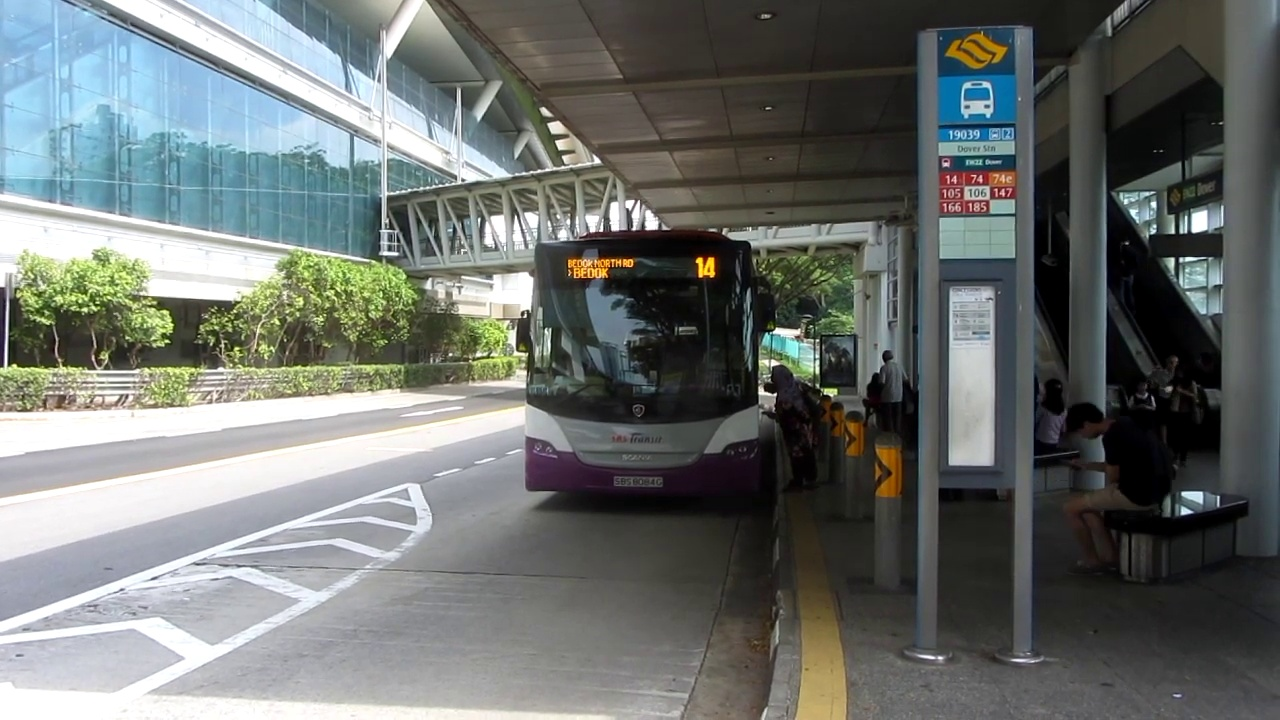bus panel: (563, 254, 721, 282)
